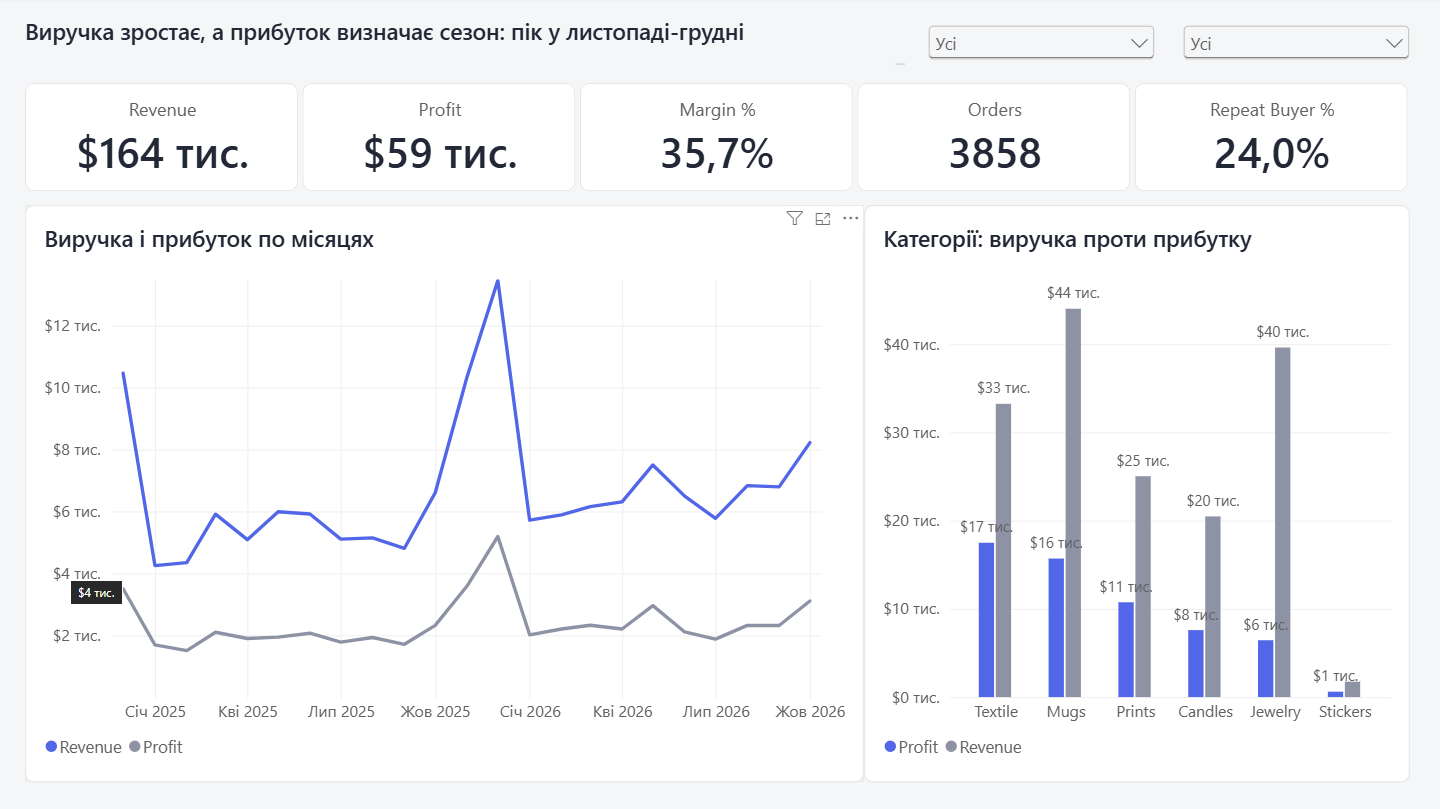

The page's visual inventory and layout, read from the dashboard file:
{"tool":"powerbi","page":{"name":"Огляд","canvas":[1280,720],"ordinal":0},"visuals":[{"type":"cardVisual","fields":{"Data":["Calendar.Revenue","Calendar.Profit","Calendar.Margin %","Calendar.Orders","Calendar.Repeat Buyer %"]},"box":[24,76,1228,96],"z":0},{"type":"lineChart","title":"Виручка і прибуток по місяцях","fields":{"Category":["Calendar.MonthStart"],"Y":["Calendar.Revenue","Calendar.Profit"]},"box":[24,184,744,512],"z":1000},{"type":"textbox","title":"Виручка зростає, а прибуток визначає сезон: пік у листопаді-грудні","box":[24.3,16,780,44.3],"z":2000},{"type":"slicer","fields":{"Values":["Calendar.Date"]},"box":[820,20,210,40],"z":3000},{"type":"slicer","fields":{"Values":["Facts.category"]},"box":[1046,20,210,40],"z":4000},{"type":"clusteredColumnChart","title":"Категорії: виручка проти прибутку","fields":{"Category":["Facts.category"],"Y":["Calendar.Profit","Calendar.Revenue"]},"box":[768,184,484,512],"z":5000}]}

Visuals, with their boxes in screenshot pixels (x1, y1, x2, y2), scaled from the page's 1280x720 canvas onto the 1440x809 screenshot:
cardVisual - Calendar.Revenue x Calendar.Profit: detection(27, 85, 1408, 193)
"Виручка і прибуток по місяцях" lineChart: detection(27, 207, 864, 782)
"Виручка зростає, а прибуток визначає сезон: пік у листопаді-грудні" textbox: detection(27, 18, 905, 68)
slicer - Calendar.Date: detection(922, 22, 1159, 67)
slicer - Facts.category: detection(1177, 22, 1413, 67)
"Категорії: виручка проти прибутку" clusteredColumnChart: detection(864, 207, 1408, 782)
